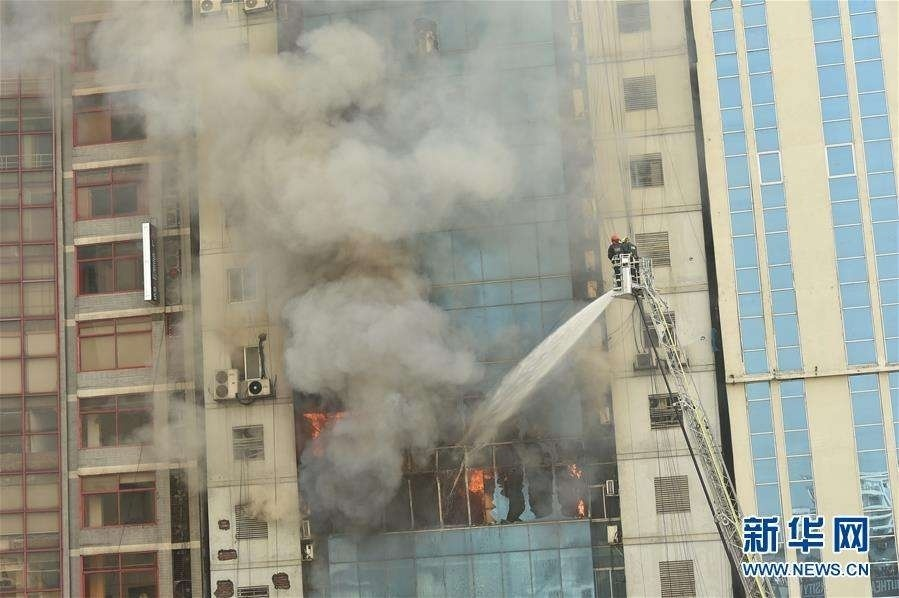fire: (301, 402, 342, 446), (466, 466, 490, 496)
